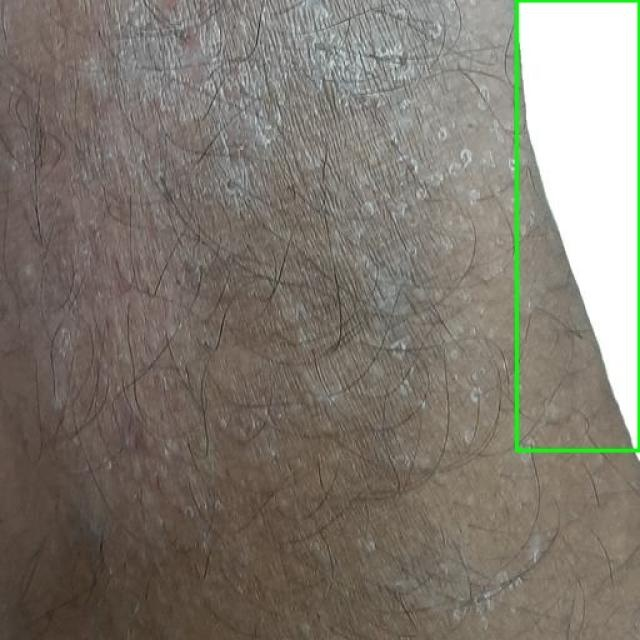Contact Dermatitis: (516, 0, 639, 450)
